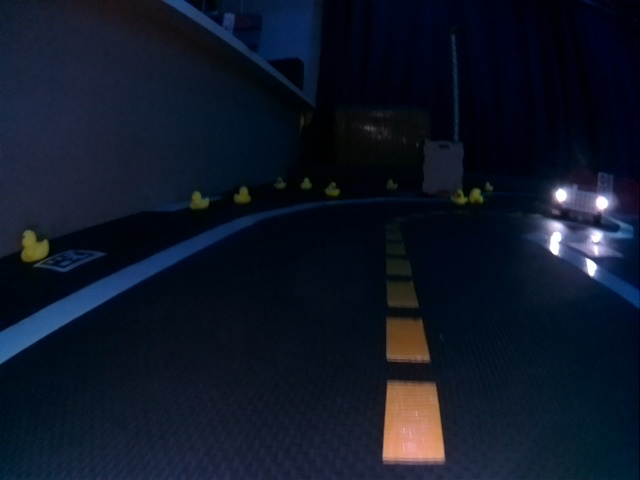Duckie: (21, 229, 49, 261), (189, 190, 209, 208), (233, 188, 250, 204), (324, 182, 341, 196), (450, 190, 466, 204), (300, 177, 312, 189), (471, 190, 482, 203), (274, 178, 284, 188), (387, 179, 396, 188)
Duckiebot: (551, 176, 612, 223)
QR code: (35, 249, 106, 271)
